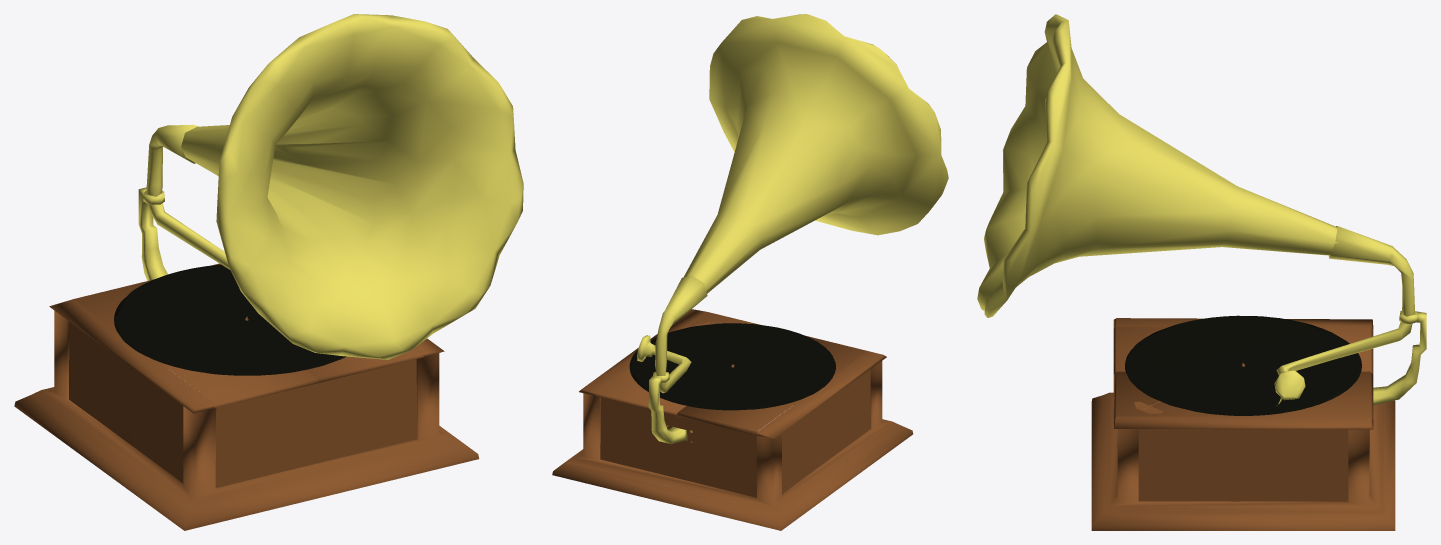
The model's file is gramophone.fbx.
3 views of the same model, side by side, from view 1: azimuth 30°, elevation 25°; view 2: azimuth 150°, elevation 25°; view 3: azimuth 270°, elevation 25° (orthographic). The views are drawn at different scales.
Visible parts, largest first — view 1: Gramophone_Body, Gramophone_Disc; view 2: Gramophone_Body, Gramophone_Disc; view 3: Gramophone_Body, Gramophone_Disc.
Part boxes in pixels (x1,y1,x2,y2): Gramophone_Body: (14, 14, 523, 530); Gramophone_Disc: (114, 264, 346, 375); Gramophone_Body: (552, 14, 948, 530); Gramophone_Disc: (629, 323, 835, 410); Gramophone_Body: (977, 14, 1426, 530); Gramophone_Disc: (1125, 315, 1361, 415).
Bounding box in the file's own units: 51.96 × 81.66 × 75.81.
